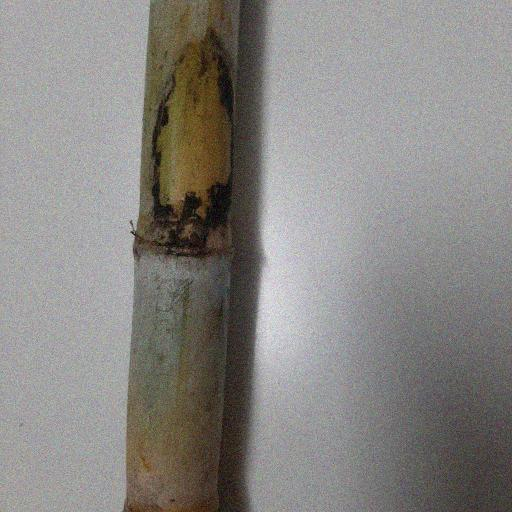Bud: (175, 215, 205, 251)
